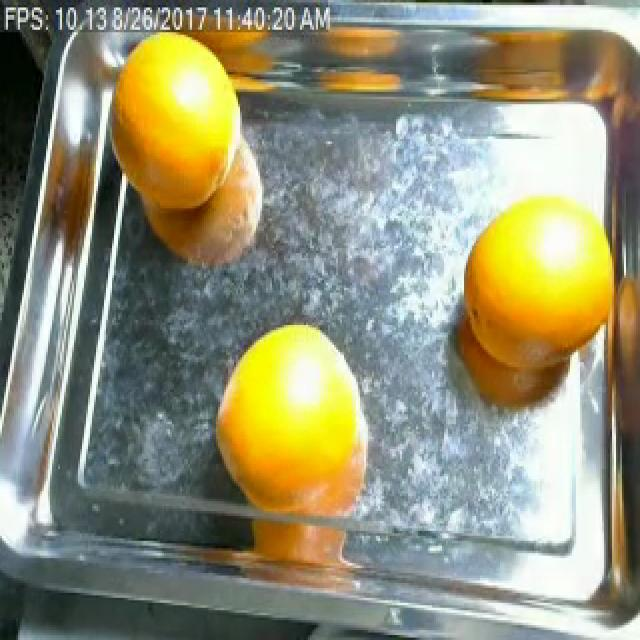Fruit: (202, 305, 382, 526), (100, 15, 254, 236), (310, 52, 416, 109)
